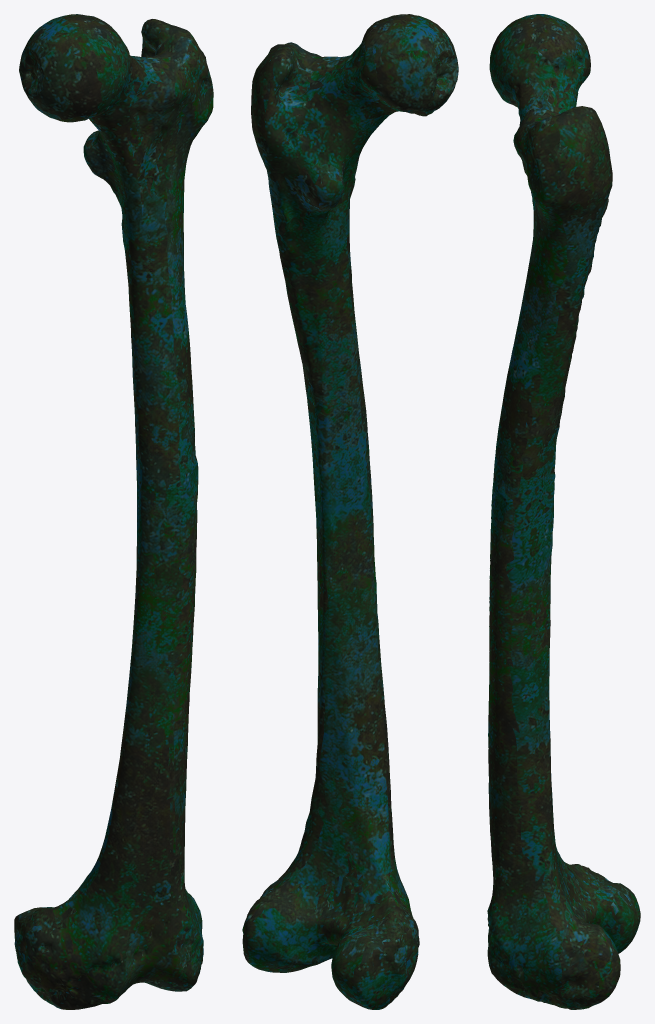
The model's file is ancient_bronze_femur_LOD1.glb.
3 views of the same model, side by side, from view 1: azimuth 30°, elevation 25°; view 2: azimuth 150°, elevation 25°; view 3: azimuth 270°, elevation 25° (orthographic). The views are drawn at different scales.
Visible parts, largest first — view 1: SM_RealisticRightFemur_LOD1; view 2: SM_RealisticRightFemur_LOD1; view 3: SM_RealisticRightFemur_LOD1.
Boxes of the visible parts, x1,y1,x2,y2 form: SM_RealisticRightFemur_LOD1: [14, 14, 213, 1009]; SM_RealisticRightFemur_LOD1: [242, 14, 458, 1009]; SM_RealisticRightFemur_LOD1: [487, 14, 640, 1009].
Bounding box in the file's own units: 0.0919 × 0.4649 × 0.0687.
Materials: 1 (1 with a texture image).
